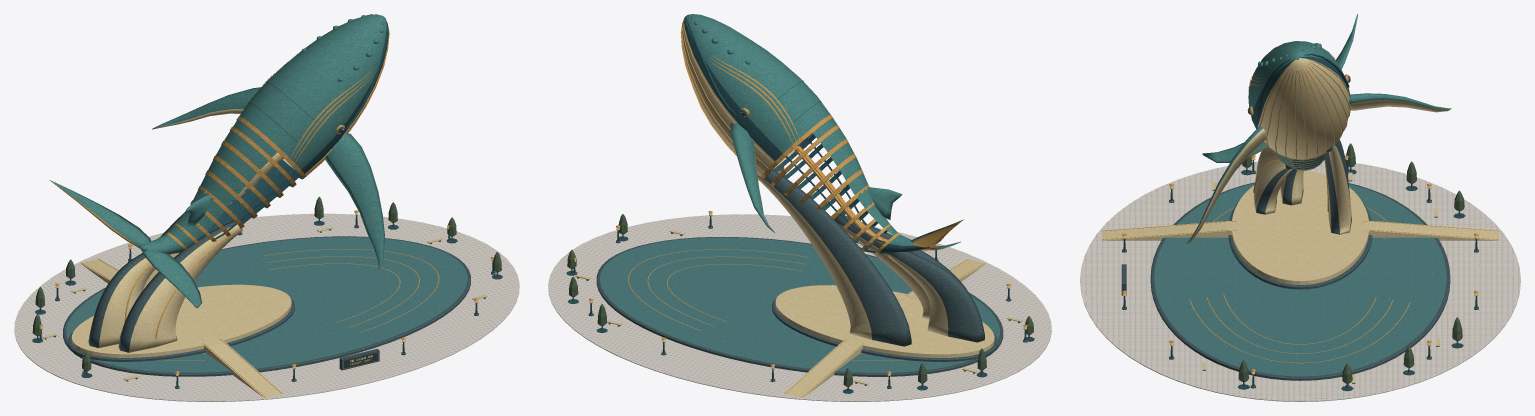
Rendered from inland-sea.glb.
The picture shows the model from 3 angles, left to right: view 1: azimuth 30°, elevation 25°; view 2: azimuth 150°, elevation 25°; view 3: azimuth 270°, elevation 25°; orthographic projection. The views are drawn at different scales.
Parts seen in each view (by area): view 1: Oval promenade, Quiet water, Cast head and barrel, Travertine coping, Breaker 2, Dorsal plate and keel, Long pectorals, Bronze hull frames, Breaker 1, Swept flukes, Basalt pool curb, Tidal causeways (+6 smaller); view 2: Oval promenade, Quiet water, Cast head and barrel, Breaker 3, Travertine coping, Breaker 1, Bronze hull frames, Basalt pool curb, Tidal causeways, Dorsal plate and keel, Breaker 2, Long pectorals (+8 smaller); view 3: Oval promenade, Quiet water, Travertine coping, Cast head and barrel, Tidal causeways, Basalt pool curb, Long pectorals, Breaker 3, Chased ventral pleats, Breaker 2, Foundry island, Basin contour inlay (+4 smaller).
Boxes of the visible parts, x1,y1,x2,y2 form: Oval promenade: [14, 213, 519, 401]; Quiet water: [66, 237, 467, 372]; Cast head and barrel: [239, 14, 388, 175]; Travertine coping: [71, 284, 291, 357]; Breaker 2: [118, 220, 242, 352]; Dorsal plate and keel: [170, 120, 298, 247]; Long pectorals: [152, 87, 384, 270]; Bronze hull frames: [166, 116, 305, 249]; Breaker 1: [88, 253, 171, 348]; Swept flukes: [50, 180, 201, 308]; Basalt pool curb: [63, 236, 470, 376]; Tidal causeways: [80, 258, 282, 398]; Oval promenade: [548, 214, 1051, 401]; Quiet water: [600, 237, 999, 372]; Cast head and barrel: [681, 14, 830, 176]; Breaker 3: [757, 170, 911, 346]; Travertine coping: [775, 285, 994, 357]; Breaker 1: [888, 252, 984, 342]; Bronze hull frames: [761, 114, 899, 253]; Basalt pool curb: [596, 237, 1003, 376]; Tidal causeways: [784, 259, 986, 398]; Dorsal plate and keel: [813, 118, 897, 252]; Breaker 2: [835, 214, 966, 319]; Long pectorals: [730, 123, 785, 232]; Oval promenade: [1080, 160, 1520, 401]; Quiet water: [1154, 183, 1446, 376]; Travertine coping: [1231, 171, 1369, 284]; Cast head and barrel: [1248, 41, 1349, 159]; Tidal causeways: [1102, 220, 1498, 240]; Basalt pool curb: [1150, 182, 1450, 380]; Long pectorals: [1186, 93, 1451, 245]; Breaker 3: [1325, 140, 1351, 234]; Chased ventral pleats: [1259, 59, 1350, 159]; Breaker 2: [1253, 147, 1293, 214]; Foundry island: [1228, 200, 1372, 289]; Basin contour inlay: [1189, 207, 1410, 363].
Bounding box in the file's own units: 130 × 71.83 × 100.
11 materials, 11 textured.
